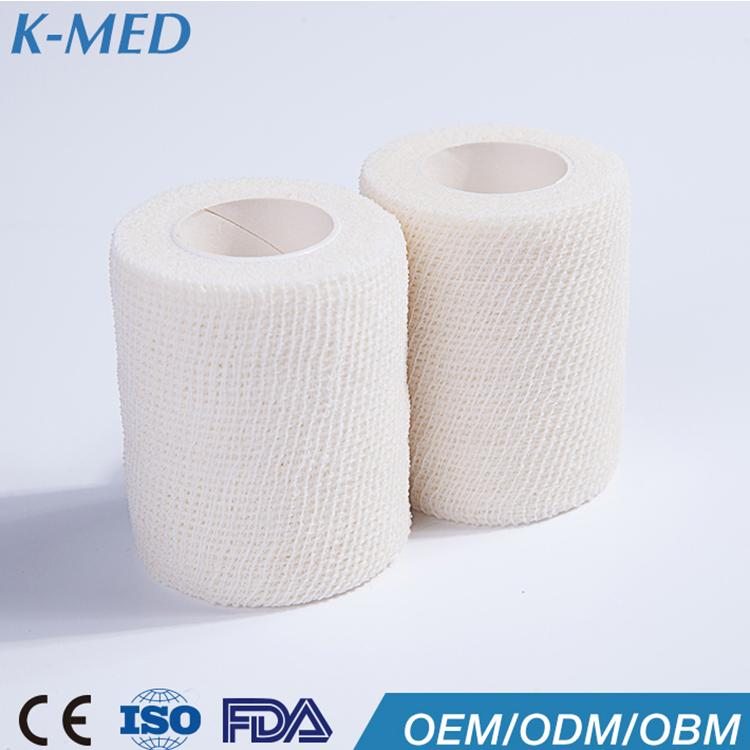bandage: (110, 175, 416, 609), (362, 123, 634, 524)
